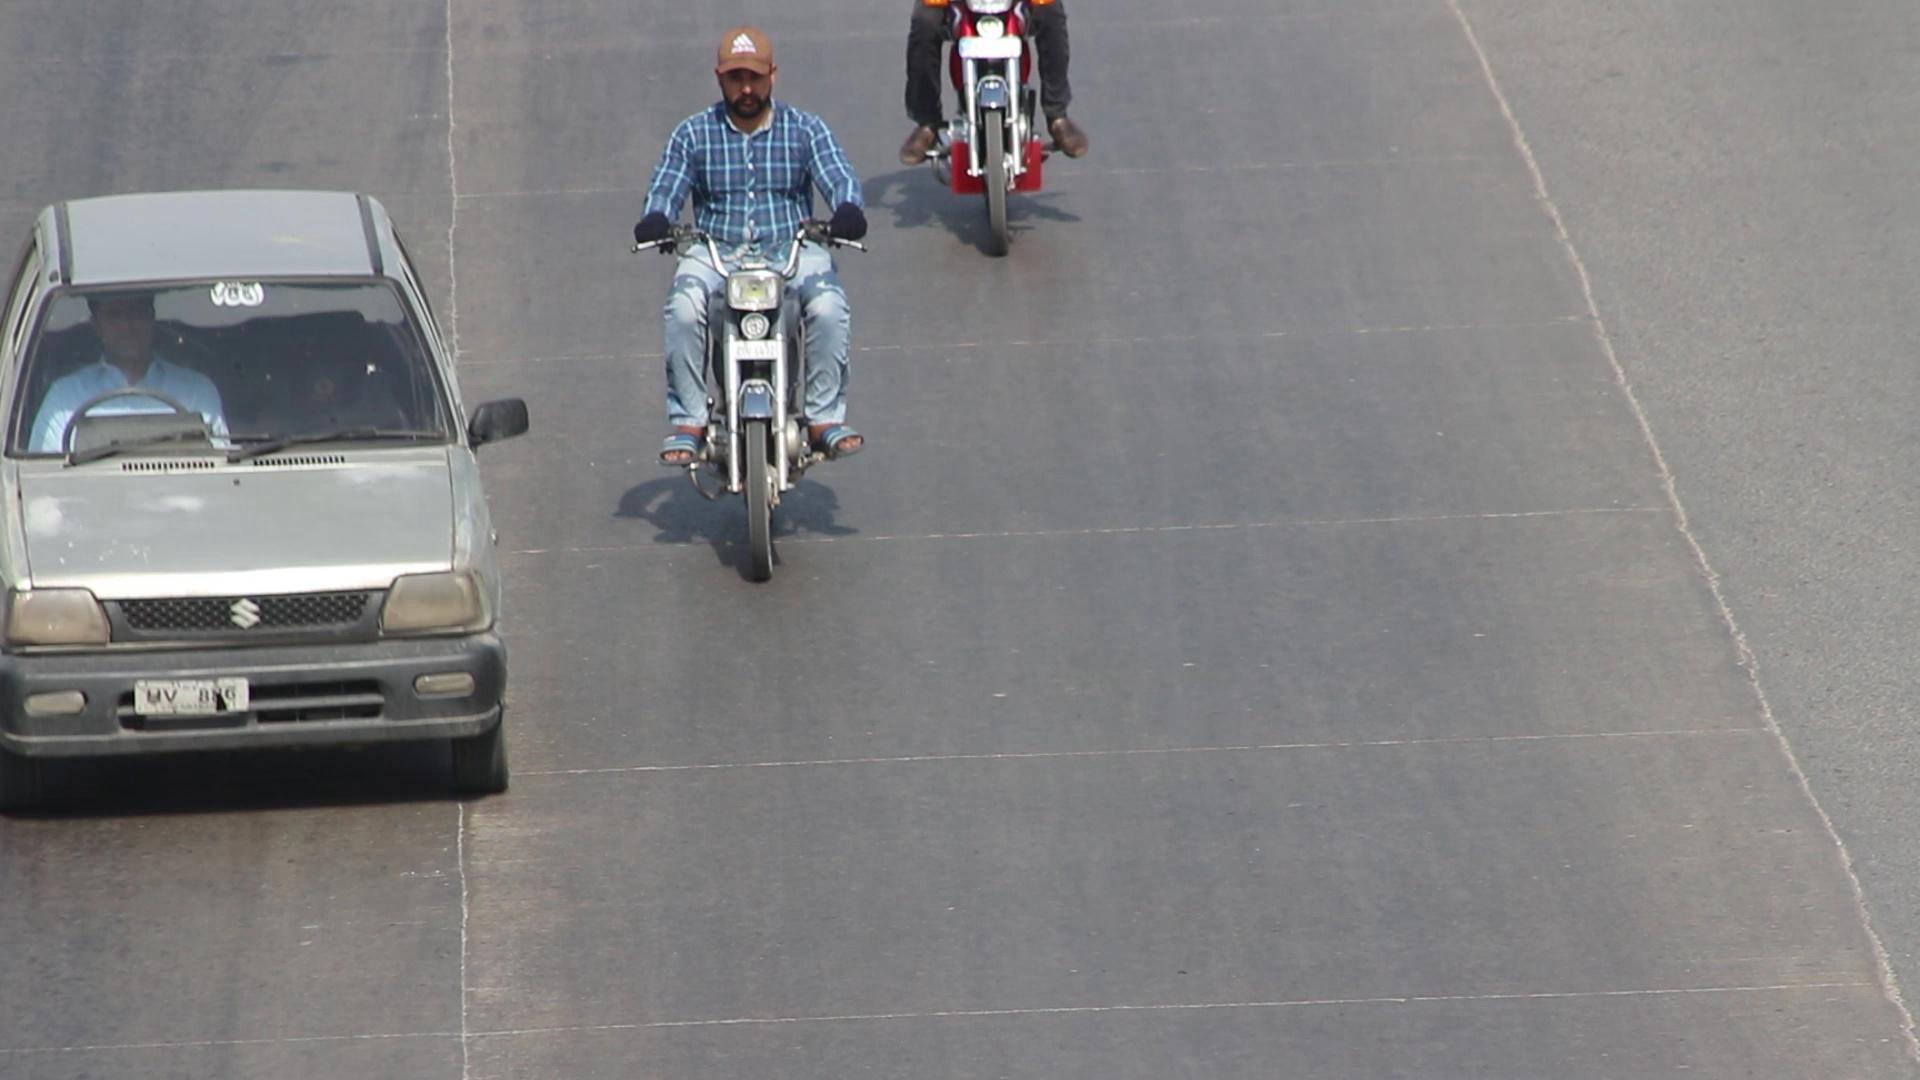windshield: (4, 270, 471, 484)
